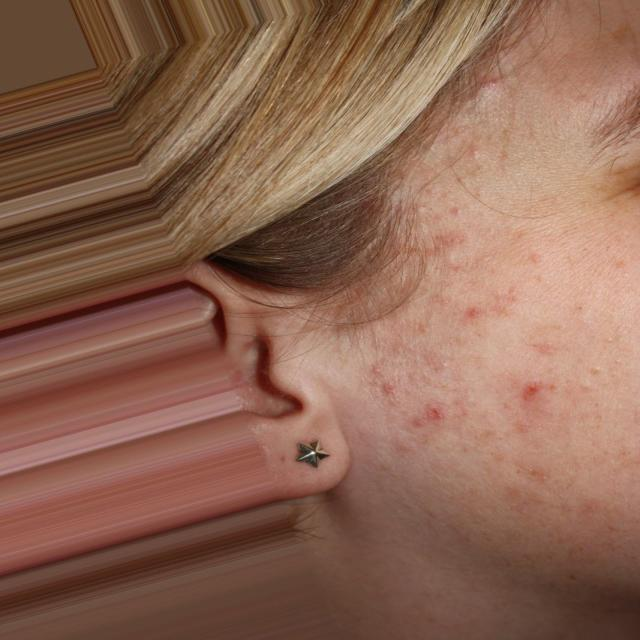acne: (436, 282, 524, 348), (484, 372, 570, 436), (382, 368, 457, 434)
